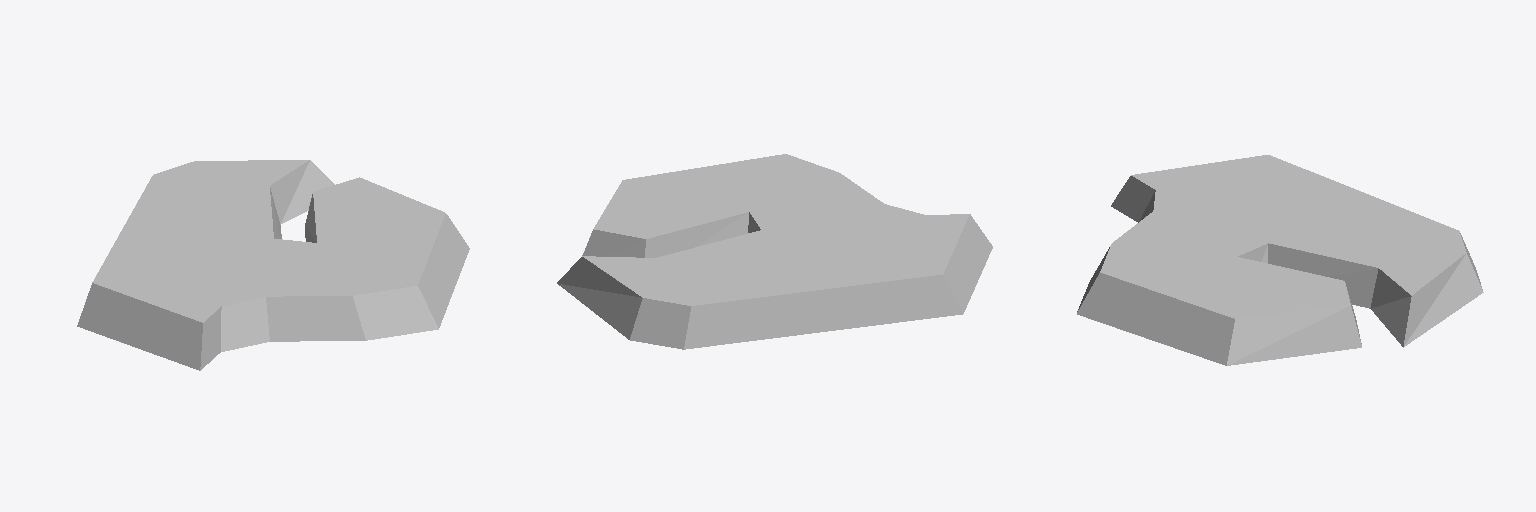
The model's file is lava-rocks(4).obj.
The picture shows the model from 3 angles: view 1: azimuth 30°, elevation 25°; view 2: azimuth 150°, elevation 25°; view 3: azimuth 270°, elevation 25°; orthographic projection.
Parts seen in each view (by area): view 1: Plane.004; view 2: Plane.004; view 3: Plane.004.
Part boxes in pixels (bbox=[...]): Plane.004: bbox=[77, 160, 469, 370]; Plane.004: bbox=[557, 154, 992, 349]; Plane.004: bbox=[1077, 155, 1483, 365].
Size of the model in its own units: 2.09 by 0.2 by 1.97.